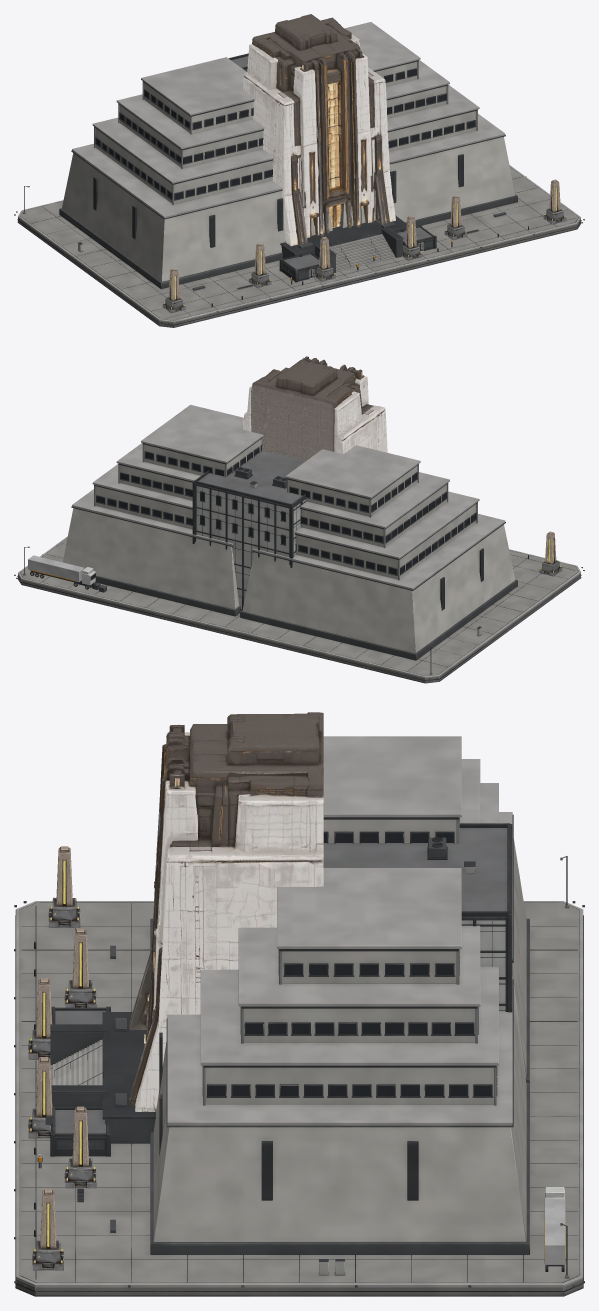
File: library.glb
3 renders of one model, top to bottom at view 1: azimuth 30°, elevation 25°; view 2: azimuth 150°, elevation 25°; view 3: azimuth 270°, elevation 25°, orthographic. The views are drawn at different scales.
Visible parts, largest first — view 1: hull, parts_colony-portalTower, parts_colony-monumentPylon; view 2: hull, parts_colony-portalTower, parts_yard-truck, parts_colony-monumentPylon; view 3: hull, parts_colony-portalTower, parts_colony-monumentPylon, parts_yard-truck.
Part boxes in pixels (<box>): hull: <box>14,22,584,327</box>; parts_colony-portalTower: <box>243,14,395,246</box>; parts_colony-monumentPylon: <box>162,179,566,313</box>; hull: <box>14,404,584,683</box>; parts_colony-portalTower: <box>243,356,387,461</box>; parts_yard-truck: <box>28,555,96,589</box>; parts_colony-monumentPylon: <box>539,531,562,576</box>; hull: <box>14,736,584,1296</box>; parts_colony-portalTower: <box>129,712,323,1111</box>; parts_colony-monumentPylon: <box>28,846,96,1270</box>; parts_yard-truck: <box>544,1187,565,1271</box>.
Size of the model in its own units: 112 by 51.22 by 70.42.
6 materials, 6 textured.
